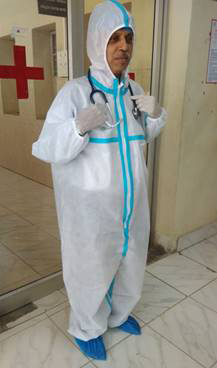Coverall: (47, 1, 163, 318)
Gloves: (74, 105, 110, 135), (132, 91, 165, 121)
